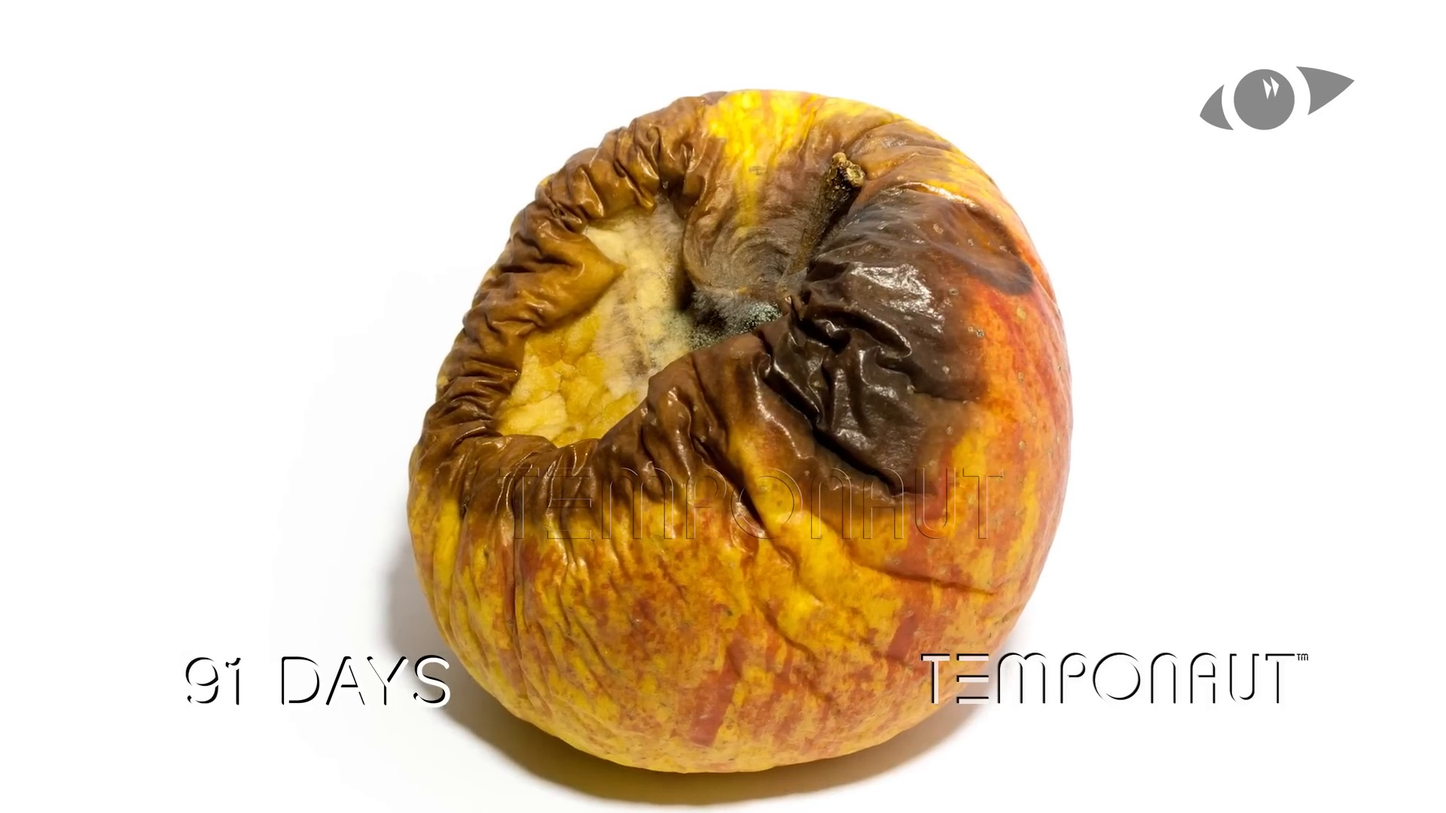apple_rotten: (406, 89, 1073, 776)
